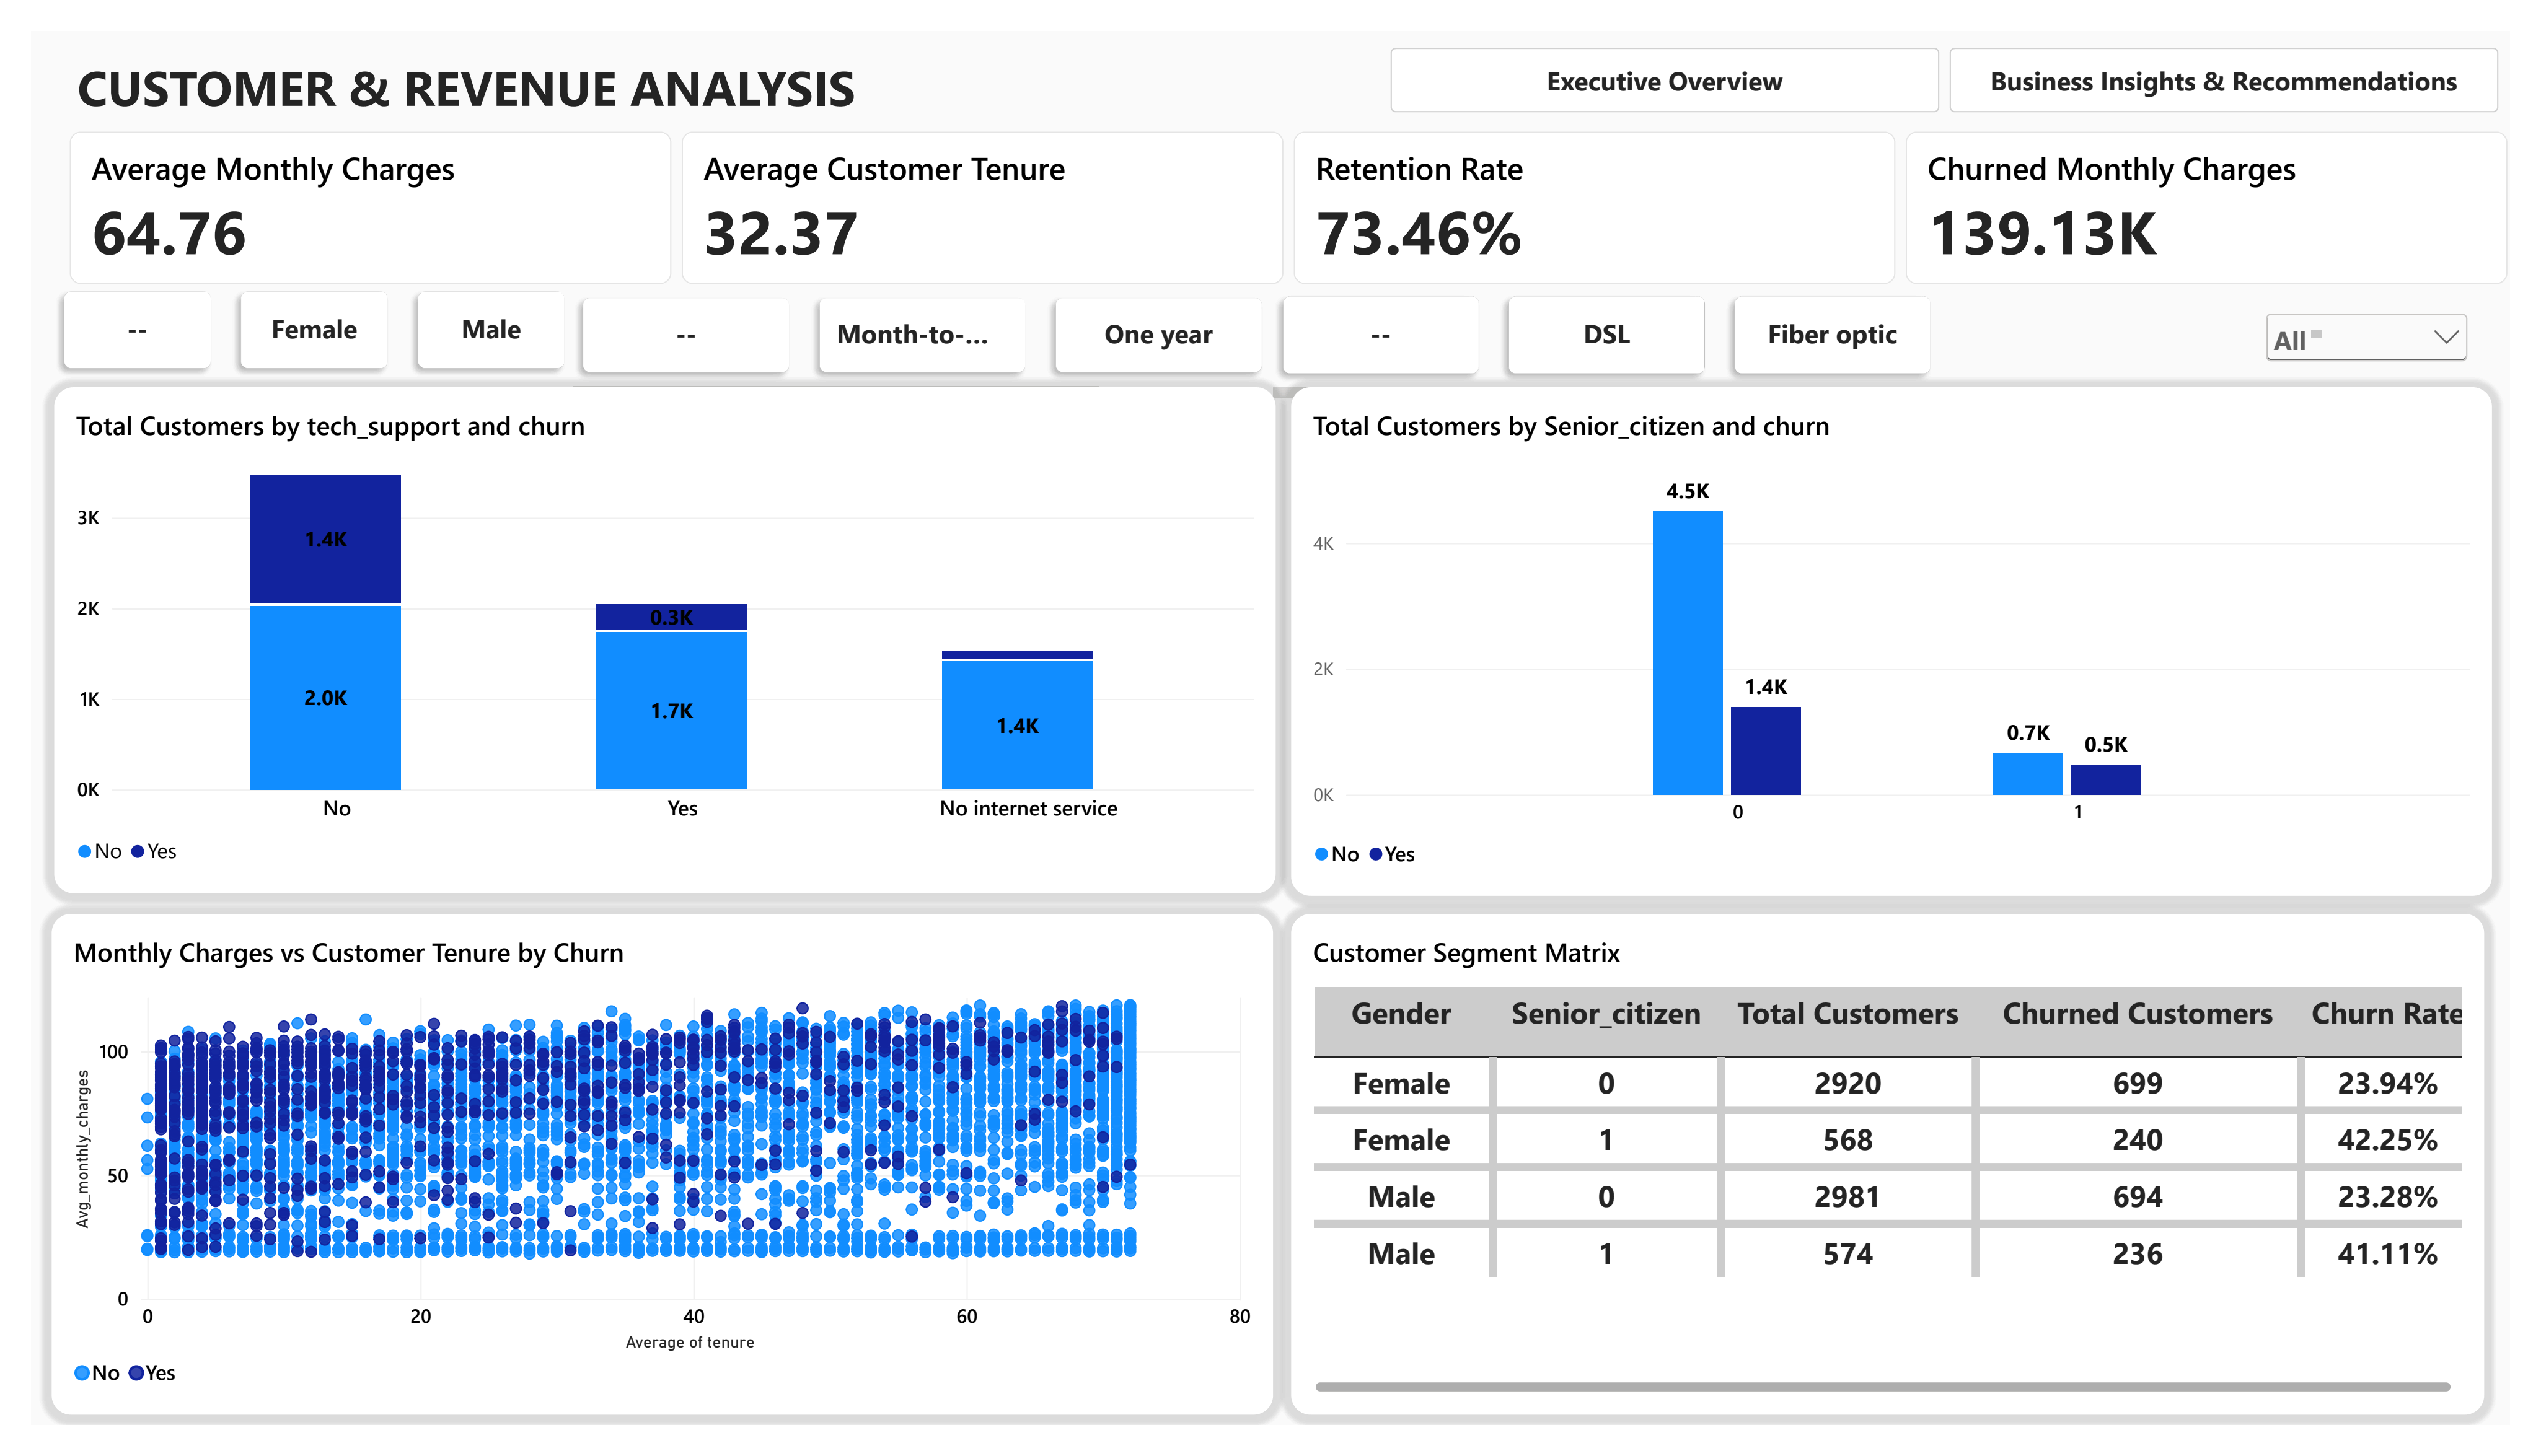

What the dashboard file says about the page in this screenshot:
{"tool":"powerbi","page":{"name":"Customer & Revenue Analysis","canvas":[1920,1080],"ordinal":1},"visuals":[{"type":"cardVisual","fields":{"Data":["All_Measures.Avg_monthly_charges","All_Measures.Avg_Tenure","All_Measures.Retention Rate","All_Measures.Churned Monthly Charges"]},"box":[30,78,1890,118],"z":0},{"type":"advancedSlicerVisual","fields":{"Values":["public dim_customer.gender"]},"box":[18,194,403.1,75.5],"z":1000},{"type":"advancedSlicerVisual","fields":{"Values":["public dim_contract.contract"]},"box":[419.6,198.9,542.9,86.5],"z":2000},{"type":"advancedSlicerVisual","fields":{"Values":["public dim_service.internet_service"]},"box":[962,198,518,88],"z":3000},{"type":"columnChart","fields":{"Category":["public dim_service.tech_support"],"Series":["public fact_customer_churn.churn"],"Y":["All_Measures.Total Customers"]},"box":[18,276,946,392],"z":4000},{"type":"clusteredColumnChart","fields":{"Category":["public dim_customer.Senior_citizen"],"Series":["public fact_customer_churn.churn"],"Y":["All_Measures.Total Customers"]},"box":[976,276,930,394],"z":5000},{"type":"scatterChart","title":"Monthly Charges vs Customer Tenure by Churn","fields":{"Category":["public dim_customer.customer_id"],"Series":["public fact_customer_churn.churn"],"X":["Avg(public fact_customer_churn.tenure)"],"Y":["All_Measures.Avg_monthly_charges"]},"box":[16,684,946,388],"z":6000},{"type":"tableEx","title":"Customer Segment Matrix","fields":{"Values":["public dim_customer.gender","public dim_customer.senior_citizen","All_Measures.Total Customers","All_Measures.Churned Customers","All_Measures.Churn Rate"]},"box":[976,684,924,388],"z":7000},{"type":"slicer","fields":{"Values":["public fact_customer_churn.churn"]},"box":[1726,214,166,72],"z":8000},{"type":"textbox","box":[1662,232,112,6],"z":9000},{"type":"textbox","box":[36,18,656,60],"z":10000},{"type":"pageNavigator","box":[1052.8,12.9,859.5,49.7],"z":11000}]}

Visuals, with their boxes on the page's 1920x1080 design canvas (x1, y1, x2, y2). These are canvas units, not pixel positions in the 2541x1456 screenshot, which may show the page scaled, cropped or inside an application window:
cardVisual - All_Measures.Avg_monthly_charges x All_Measures.Avg_Tenure: bbox=(30, 78, 1920, 196)
advancedSlicerVisual - public dim_customer.gender: bbox=(18, 194, 421, 270)
advancedSlicerVisual - public dim_contract.contract: bbox=(420, 199, 962, 285)
advancedSlicerVisual - public dim_service.internet_service: bbox=(962, 198, 1480, 286)
columnChart - public dim_service.tech_support x public fact_customer_churn.churn: bbox=(18, 276, 964, 668)
clusteredColumnChart - public dim_customer.Senior_citizen x public fact_customer_churn.churn: bbox=(976, 276, 1906, 670)
"Monthly Charges vs Customer Tenure by Churn" scatterChart: bbox=(16, 684, 962, 1072)
"Customer Segment Matrix" tableEx: bbox=(976, 684, 1900, 1072)
slicer - public fact_customer_churn.churn: bbox=(1726, 214, 1892, 286)
textbox: bbox=(1662, 232, 1774, 238)
textbox: bbox=(36, 18, 692, 78)
pageNavigator: bbox=(1053, 13, 1912, 63)
